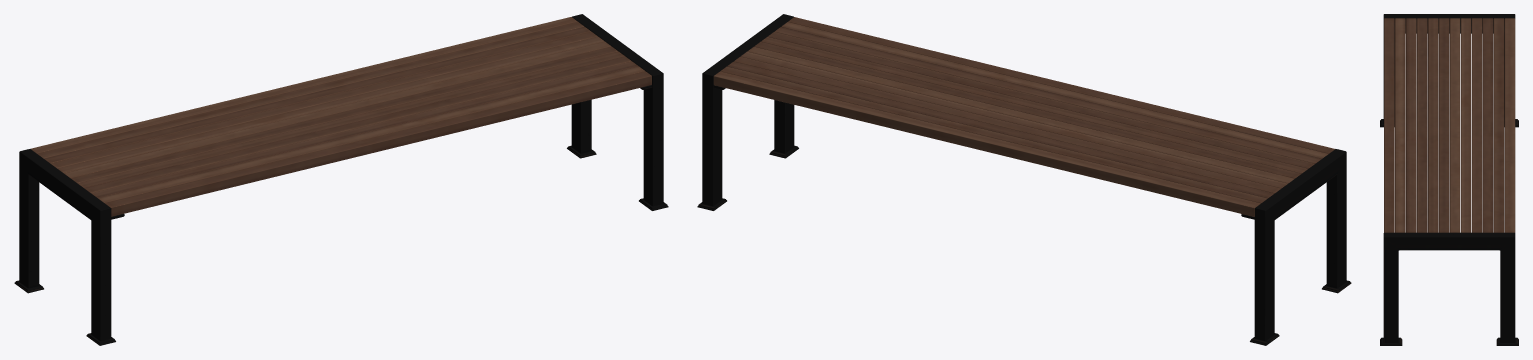
Rendered from Bench.gltf.
The picture shows the model from 3 angles, left to right: view 1: azimuth 30°, elevation 25°; view 2: azimuth 150°, elevation 25°; view 3: azimuth 270°, elevation 25°; orthographic projection. The views are drawn at different scales.
Parts seen in each view (by area): view 1: Cube.001, Cube, Cube.003; view 2: Cube.001, Cube, Cube.003; view 3: Cube.001, Cube, Cube.003.
Part boxes in pixels (box(x1,y1,x2,y2)): Cube.001: box(31, 17, 651, 216); Cube: box(19, 14, 663, 340); Cube.003: box(14, 145, 668, 345); Cube.001: box(713, 17, 1334, 216); Cube: box(702, 14, 1346, 340); Cube.003: box(697, 145, 1351, 345); Cube.001: box(1384, 18, 1515, 232); Cube: box(1383, 14, 1515, 342); Cube.003: box(1380, 119, 1518, 345).
Size of the model in its own units: 6.06 by 1.36 by 1.58.
Materials: 1 (1 with a texture image).
